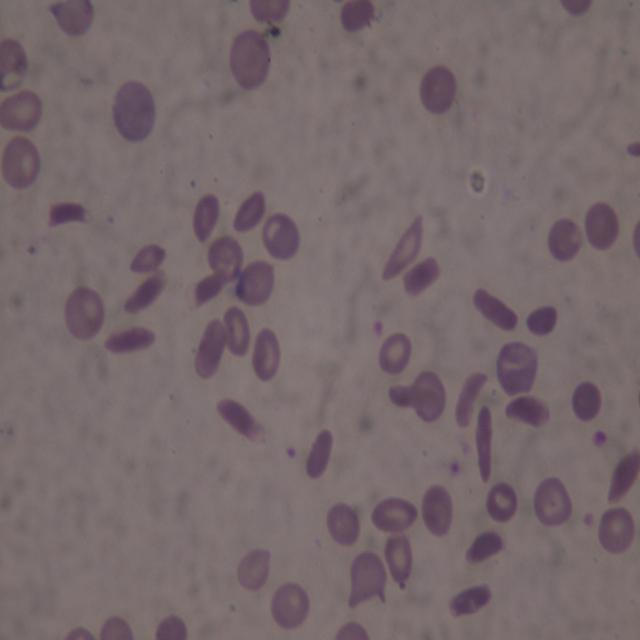Crystal: (217, 398, 266, 443), (472, 289, 521, 333), (122, 271, 165, 316), (100, 325, 156, 354), (447, 583, 492, 619), (304, 428, 335, 476), (503, 394, 548, 426), (193, 266, 225, 308), (462, 531, 504, 561), (46, 200, 90, 228), (389, 384, 435, 408)
Normal: (377, 329, 412, 375)
Others: (111, 77, 156, 143), (496, 341, 541, 396), (63, 283, 106, 340), (346, 550, 388, 608), (231, 31, 271, 89), (193, 316, 228, 382), (1, 136, 43, 189), (532, 475, 574, 527), (597, 504, 635, 557), (418, 63, 457, 114), (248, 327, 284, 382), (269, 582, 310, 630), (46, 0, 96, 39), (411, 370, 447, 424), (264, 211, 302, 261), (368, 496, 417, 534), (2, 86, 42, 131), (383, 530, 415, 586), (205, 232, 242, 280), (235, 260, 275, 304), (421, 484, 454, 537), (403, 255, 443, 298), (230, 189, 267, 235), (548, 217, 584, 263), (236, 546, 273, 590), (584, 202, 617, 250), (221, 305, 252, 355), (326, 499, 358, 547), (0, 37, 29, 89), (571, 378, 603, 425), (484, 481, 519, 523), (193, 193, 220, 246), (338, 0, 374, 36), (128, 242, 166, 276), (525, 302, 559, 336), (247, 0, 292, 25), (154, 612, 190, 639), (100, 614, 134, 637), (335, 619, 372, 640), (556, 0, 596, 19), (63, 622, 98, 640), (631, 218, 640, 262), (626, 140, 640, 159)
Sickle: (380, 212, 426, 282), (454, 371, 489, 430), (604, 449, 639, 504), (474, 405, 493, 484)
